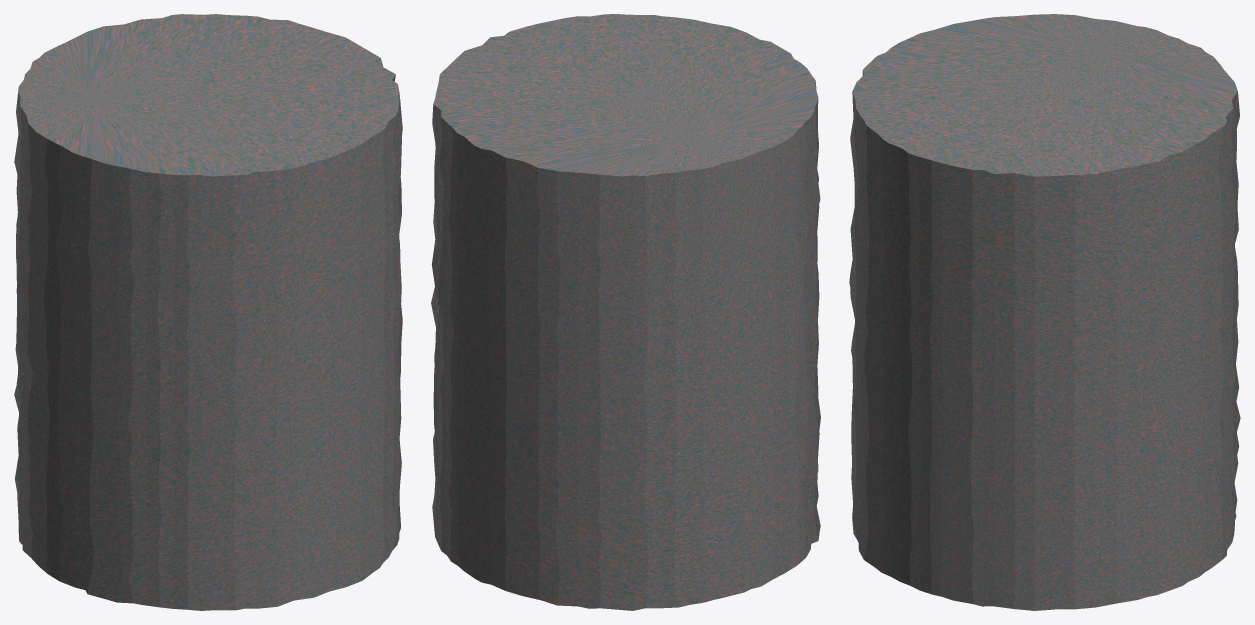
The model's file is barrel_71.dae.
3 views of the same model, side by side, from view 1: azimuth 30°, elevation 25°; view 2: azimuth 150°, elevation 25°; view 3: azimuth 270°, elevation 25° (orthographic).
Visible parts, largest first — view 1: Cylinder; view 2: Cylinder; view 3: Cylinder.
Part boxes in pixels (x1=…): Cylinder: x1=14, y1=14, x2=402, y2=610; Cylinder: x1=431, y1=14, x2=820, y2=610; Cylinder: x1=849, y1=14, x2=1240, y2=610.
Size of the model in its own units: 0.8156 by 0.8174 by 1.
Materials: 1 (1 with a texture image).
